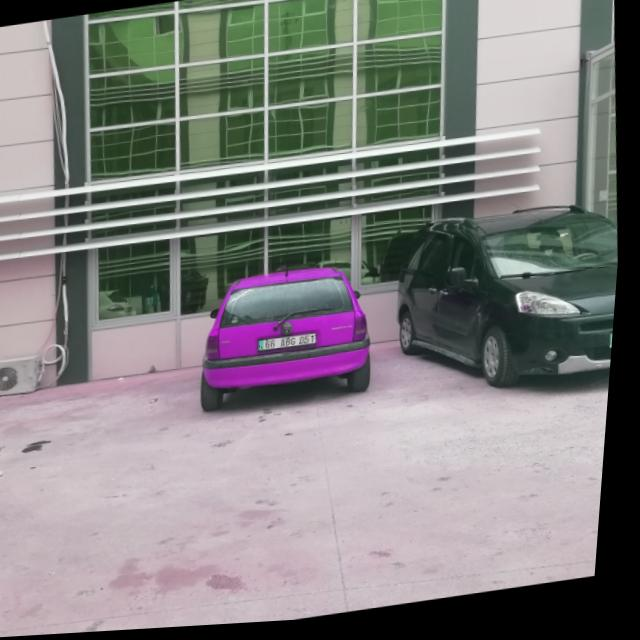license_plate: (263, 336, 322, 354)
